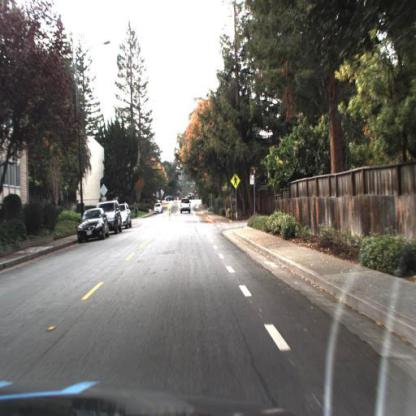car: (77, 208, 111, 242), (110, 199, 124, 233), (119, 200, 133, 232), (180, 196, 193, 219)
pedestrian: (136, 204, 139, 219)
